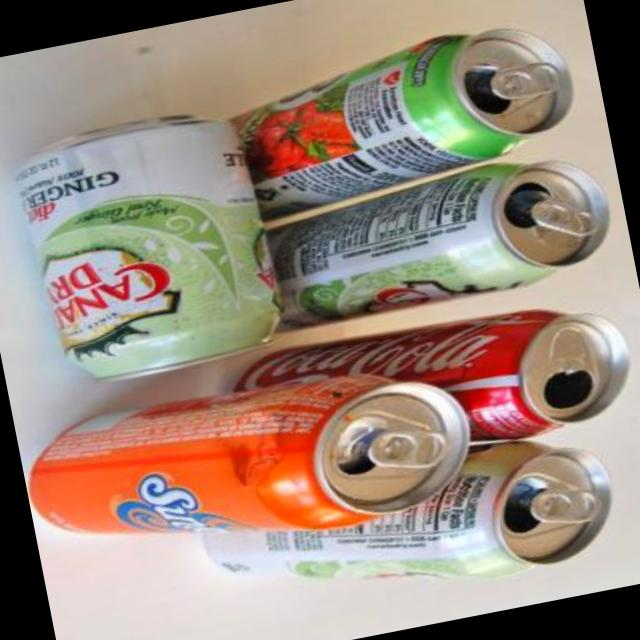metal: (33, 372, 470, 529), (19, 115, 278, 376), (235, 27, 574, 213), (266, 160, 610, 328), (203, 440, 611, 576), (235, 309, 630, 441)
